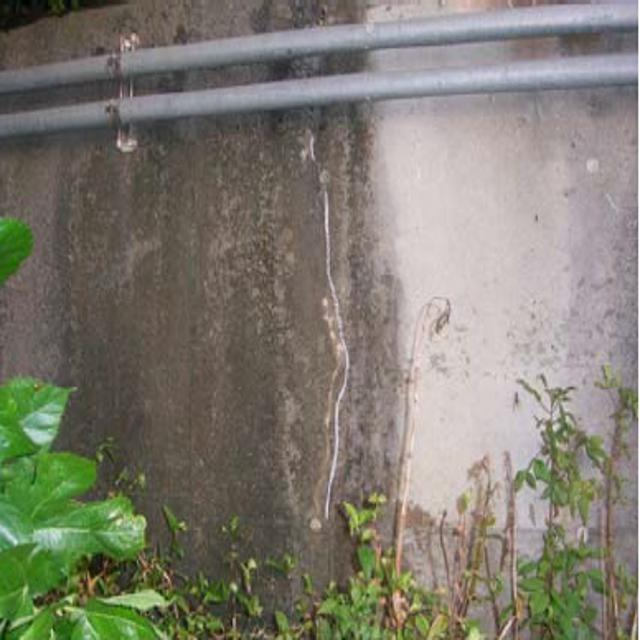leakage: (79, 40, 400, 579)
